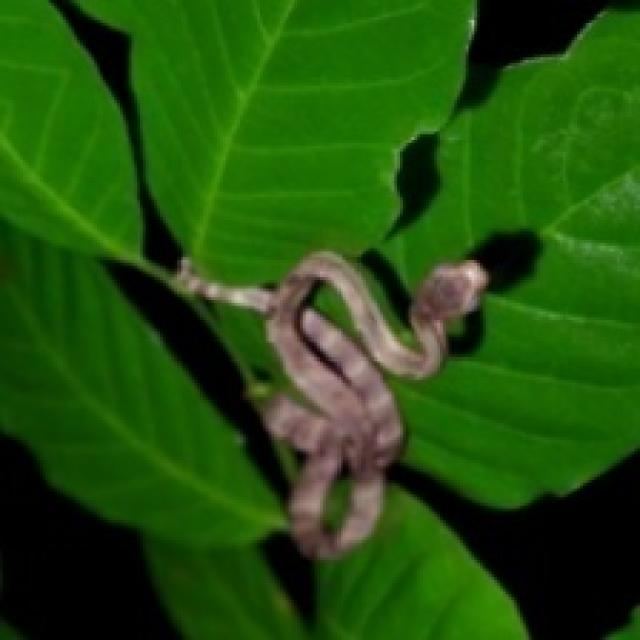philippine blunt-headed catsnake: (174, 251, 486, 557)
